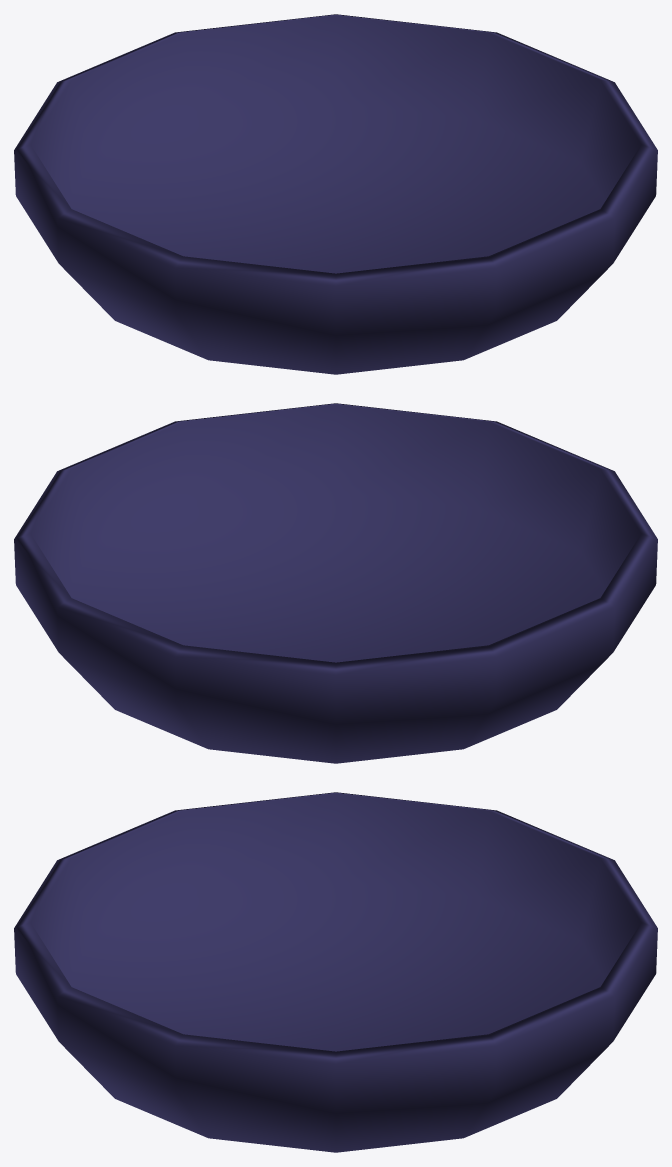
Rendered from Plate_02.fbx.
The picture shows the model from 3 angles, top to bottom: view 1: azimuth 30°, elevation 25°; view 2: azimuth 150°, elevation 25°; view 3: azimuth 270°, elevation 25°; orthographic projection.
Visible parts, largest first — view 1: Plate_02; view 2: Plate_02; view 3: Plate_02.
Boxes of the visible parts, x1,y1,x2,y2 form: Plate_02: (14, 14, 657, 374); Plate_02: (14, 403, 657, 763); Plate_02: (14, 792, 657, 1152).
Size of the model in its own units: 28.84 by 6.04 by 28.84.
